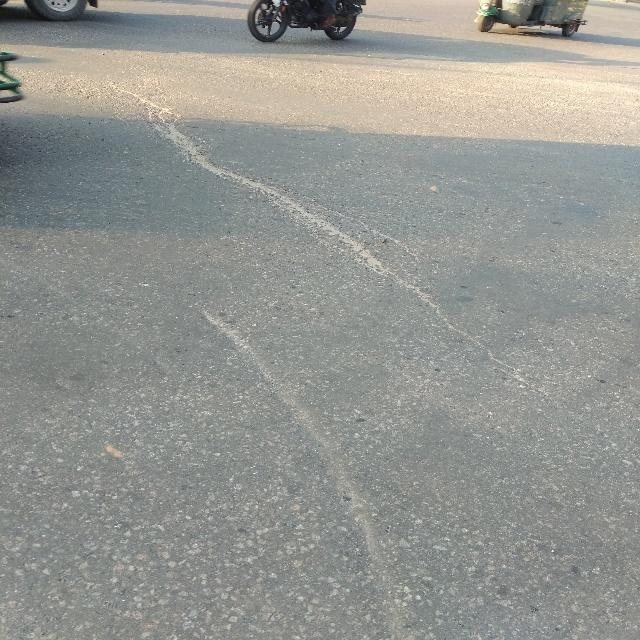Crack: (60, 58, 638, 640)
